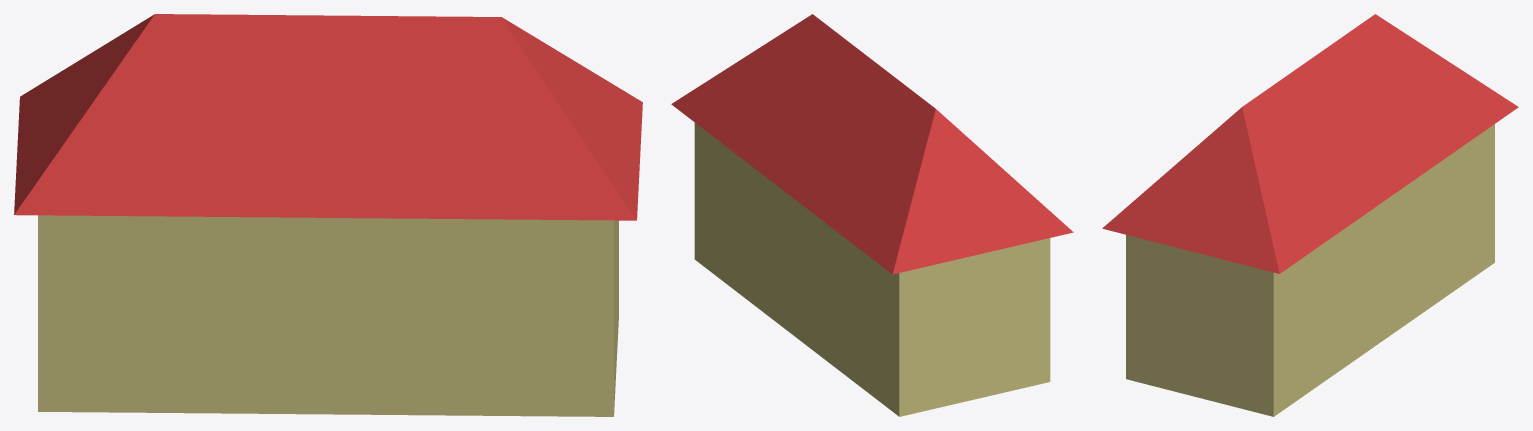
3 renders of one model, left to right at view 1: azimuth 30°, elevation 25°; view 2: azimuth 150°, elevation 25°; view 3: azimuth 270°, elevation 25°, orthographic. The views are drawn at different scales.
Visible parts, largest first — view 1: group_5, group_3, group_4; view 2: group_5, group_3, group_4; view 3: group_5, group_3, group_4.
Boxes of the visible parts, x1,y1,x2,y2 form: group_5: (38, 215, 618, 416); group_3: (14, 14, 642, 220); group_4: (14, 83, 642, 220); group_5: (694, 122, 1050, 416); group_3: (671, 14, 1073, 274); group_4: (671, 89, 1072, 274); group_5: (1126, 124, 1494, 416); group_3: (1102, 14, 1518, 273); group_4: (1107, 225, 1303, 273).
Bounding box in the file's own units: 28.85 × 23.93 × 16.47.
